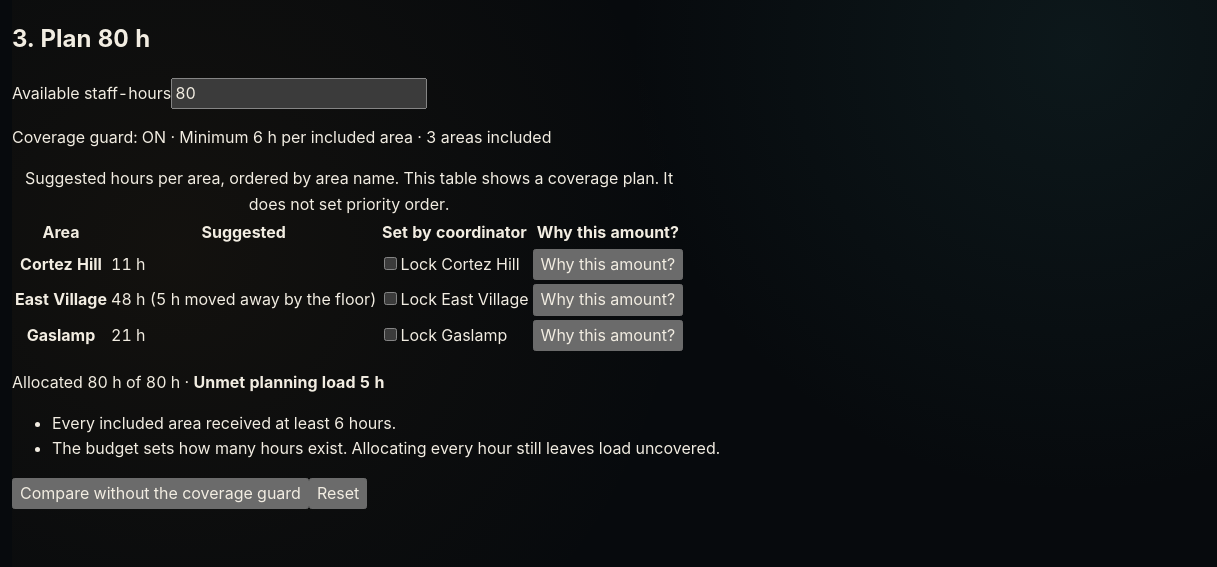
it: invalid and infeasible input produce actionable feedback › refuses a non-numeric budget and says what to do
This screenshot has width=1217, height=567.
Clear the number field labelled "Available staff-hours" at (299, 93), box [171,78,427,109]
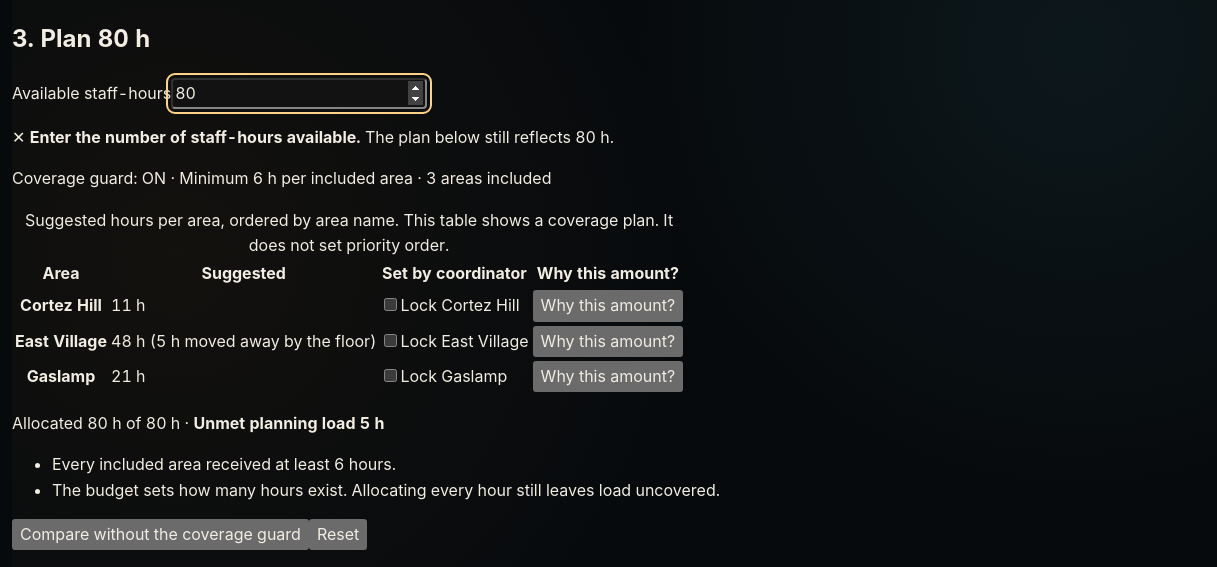
Expected: the message shows "Enter the number of staff-hours", [30,127,361,147]
